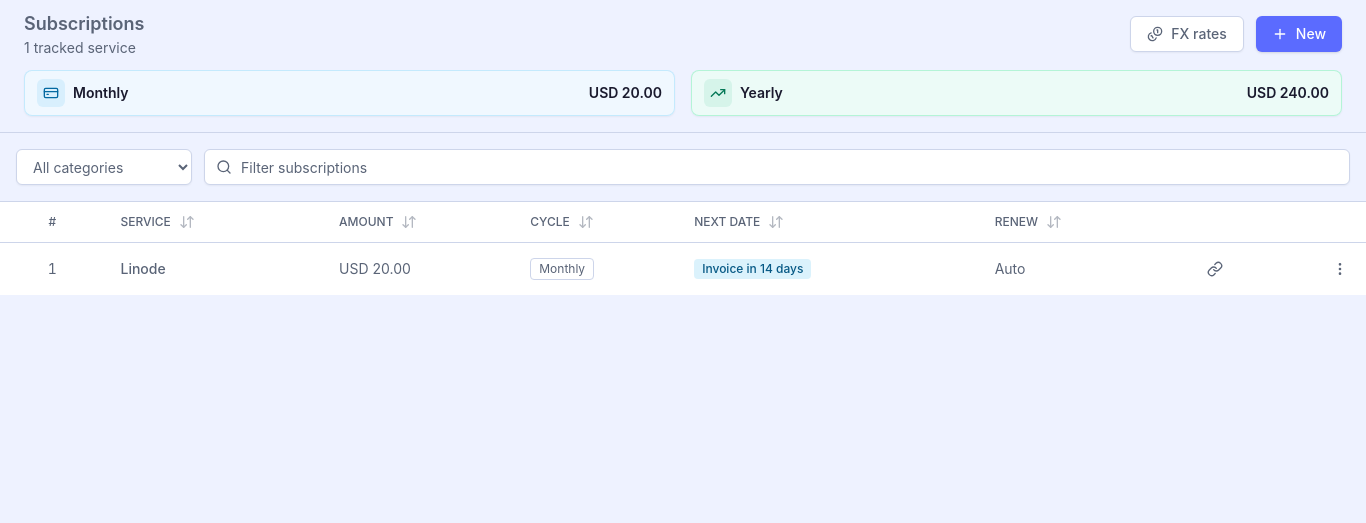
Test case: SubscriptionsListView › shows a no-matches state when the filter excludes everything
This screenshot has width=1366, height=523.
Type "zzz-nomatch" into the field labelled "Filter subscriptions" at (777, 167), box [204, 149, 1350, 185]
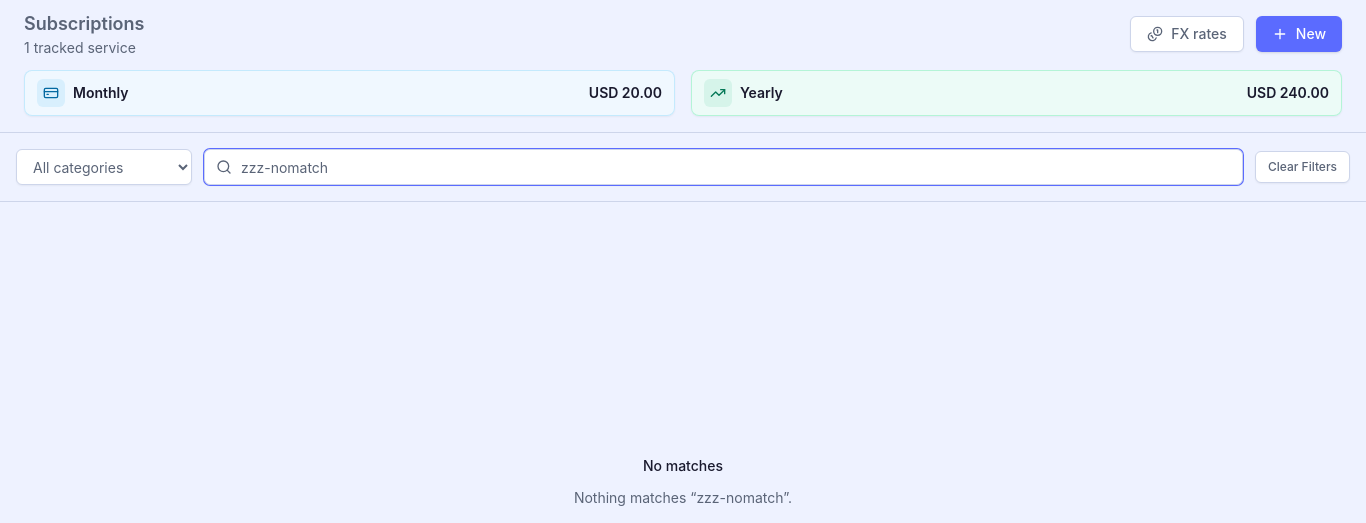
Expected: the text "No matches" is shown, [643, 456, 723, 476]
